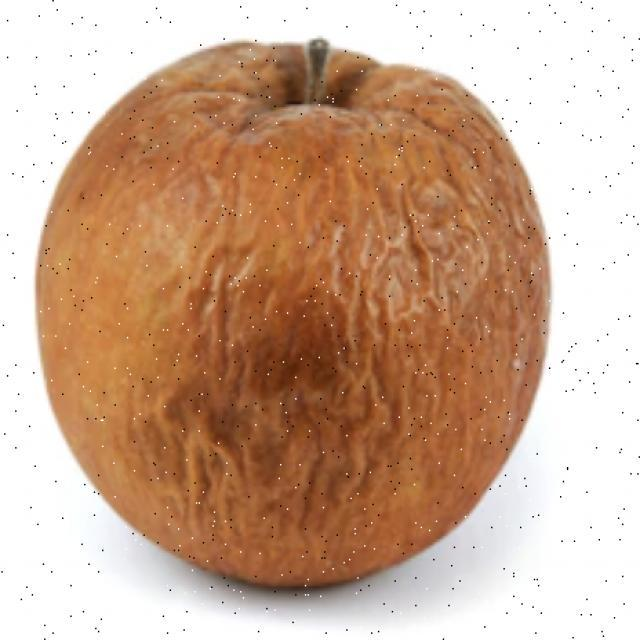Rotten: (77, 48, 533, 567)
